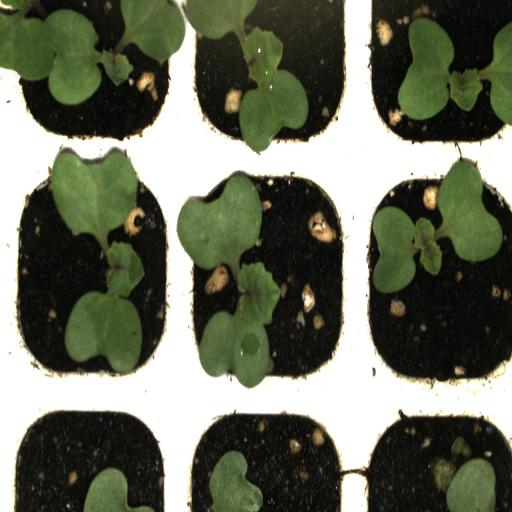Folha: (209, 450, 263, 512), (436, 458, 496, 512), (83, 467, 154, 512)
Germinacao: (5, 154, 184, 396), (183, 157, 359, 395), (360, 156, 512, 395), (184, 0, 359, 156), (7, 0, 184, 154), (361, 0, 512, 157)
